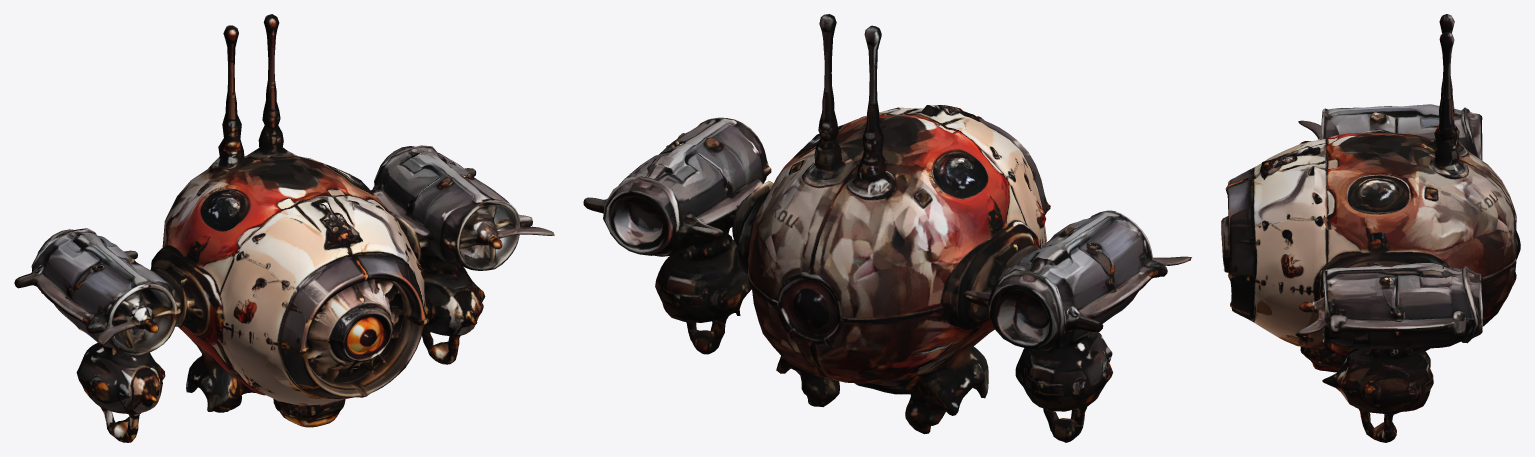
File: enemy_drone.glb
3 renders of one model, left to right at view 1: azimuth 30°, elevation 25°; view 2: azimuth 150°, elevation 25°; view 3: azimuth 270°, elevation 25°, orthographic. The views are drawn at different scales.
Visible parts, largest first — view 1: tripo_node_6088e6a5-85de-4583-998e-49c2297a1132; view 2: tripo_node_6088e6a5-85de-4583-998e-49c2297a1132; view 3: tripo_node_6088e6a5-85de-4583-998e-49c2297a1132.
Boxes of the visible parts, left/top/right/bottom form: tripo_node_6088e6a5-85de-4583-998e-49c2297a1132: left=14, top=14, right=554, bottom=442; tripo_node_6088e6a5-85de-4583-998e-49c2297a1132: left=583, top=14, right=1191, bottom=442; tripo_node_6088e6a5-85de-4583-998e-49c2297a1132: left=1221, top=14, right=1520, bottom=442.
Bounding box in the file's own units: 0.9781 × 0.7467 × 0.5745.
Materials: 1 (1 with a texture image).
